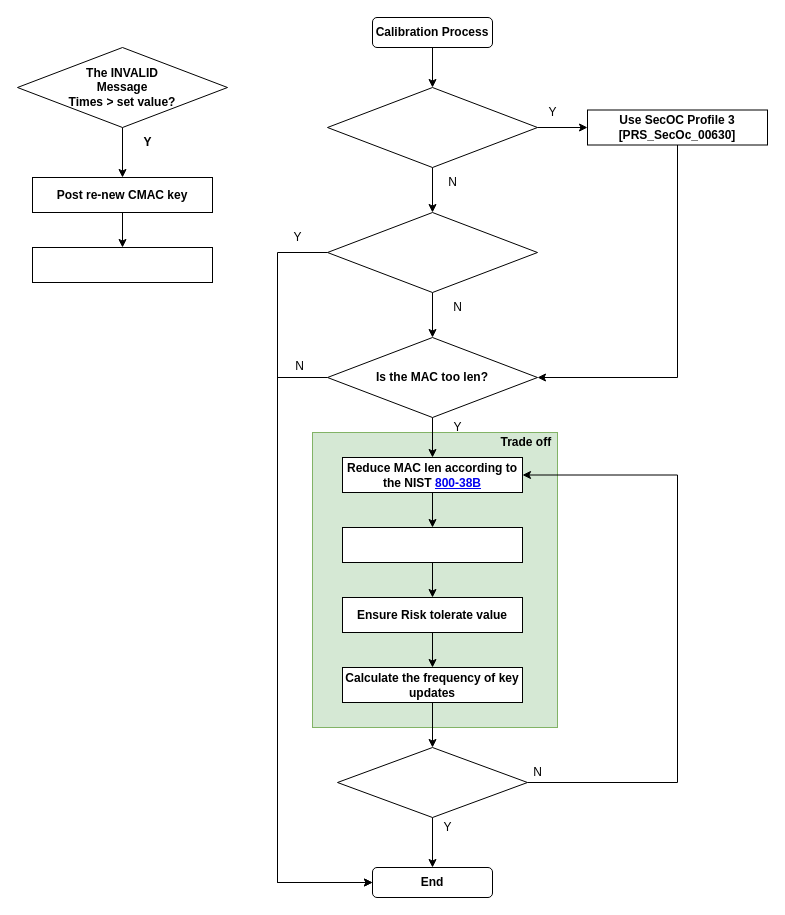
Image size: 785x915. Some labels were removed from this diagram. The shapes that lost their labels are listed below. From the top down, each one's centre as x and y in pixels, then its label:
point 432,127: Use JasPar counter (short counter)？
point 122,264: Clear INVALID Message count value
point 432,252: Use SecOC Profile 1 [PRS_SecOc_00610]
point 432,544: Ensure MaxInvalid value
point 432,782: Can meets?
